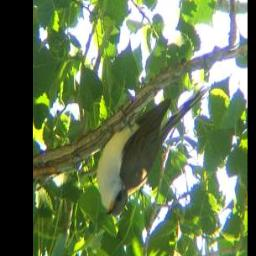Cuckoo: (97, 85, 213, 218)
